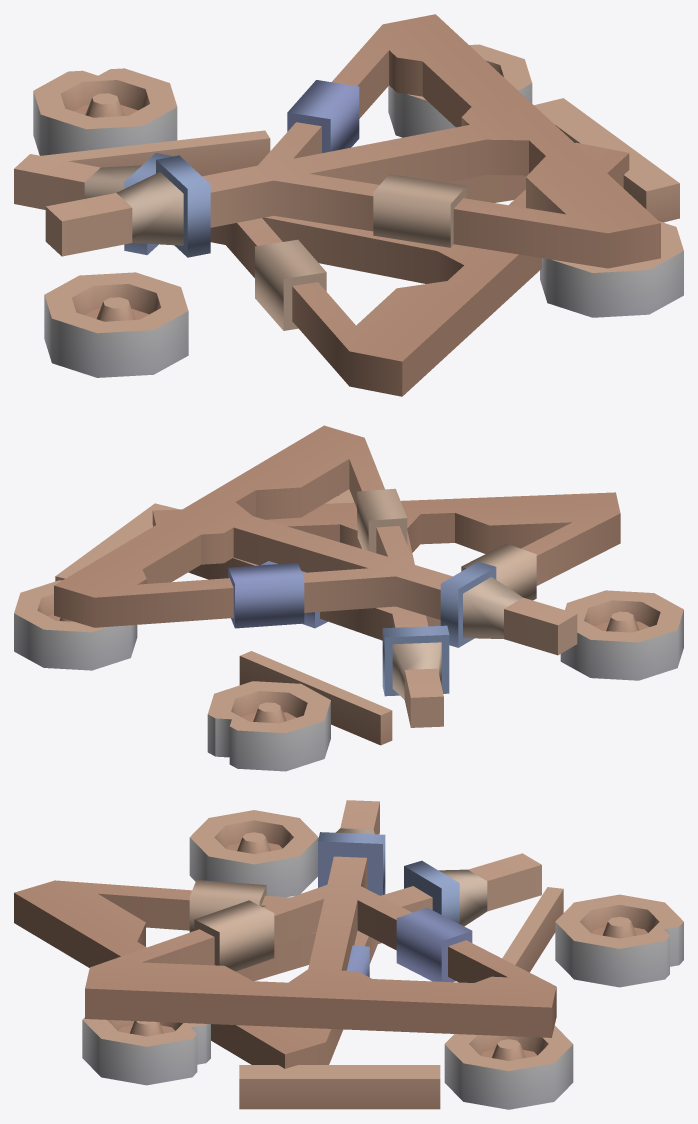
The model's file is siege-trebuchet-demolished.glb.
3 renders of one model, top to bottom at view 1: azimuth 30°, elevation 25°; view 2: azimuth 150°, elevation 25°; view 3: azimuth 270°, elevation 25°, orthographic. The views are drawn at different scales.
Visible parts, largest first — view 1: siege-trebuchet-demolished; view 2: siege-trebuchet-demolished; view 3: siege-trebuchet-demolished.
Boxes of the visible parts, x1,y1,x2,y2 form: siege-trebuchet-demolished: [14, 14, 683, 396]; siege-trebuchet-demolished: [14, 425, 683, 771]; siege-trebuchet-demolished: [14, 800, 683, 1109].
Bounding box in the file's own units: 1.93 × 0.3097 × 2.1.
